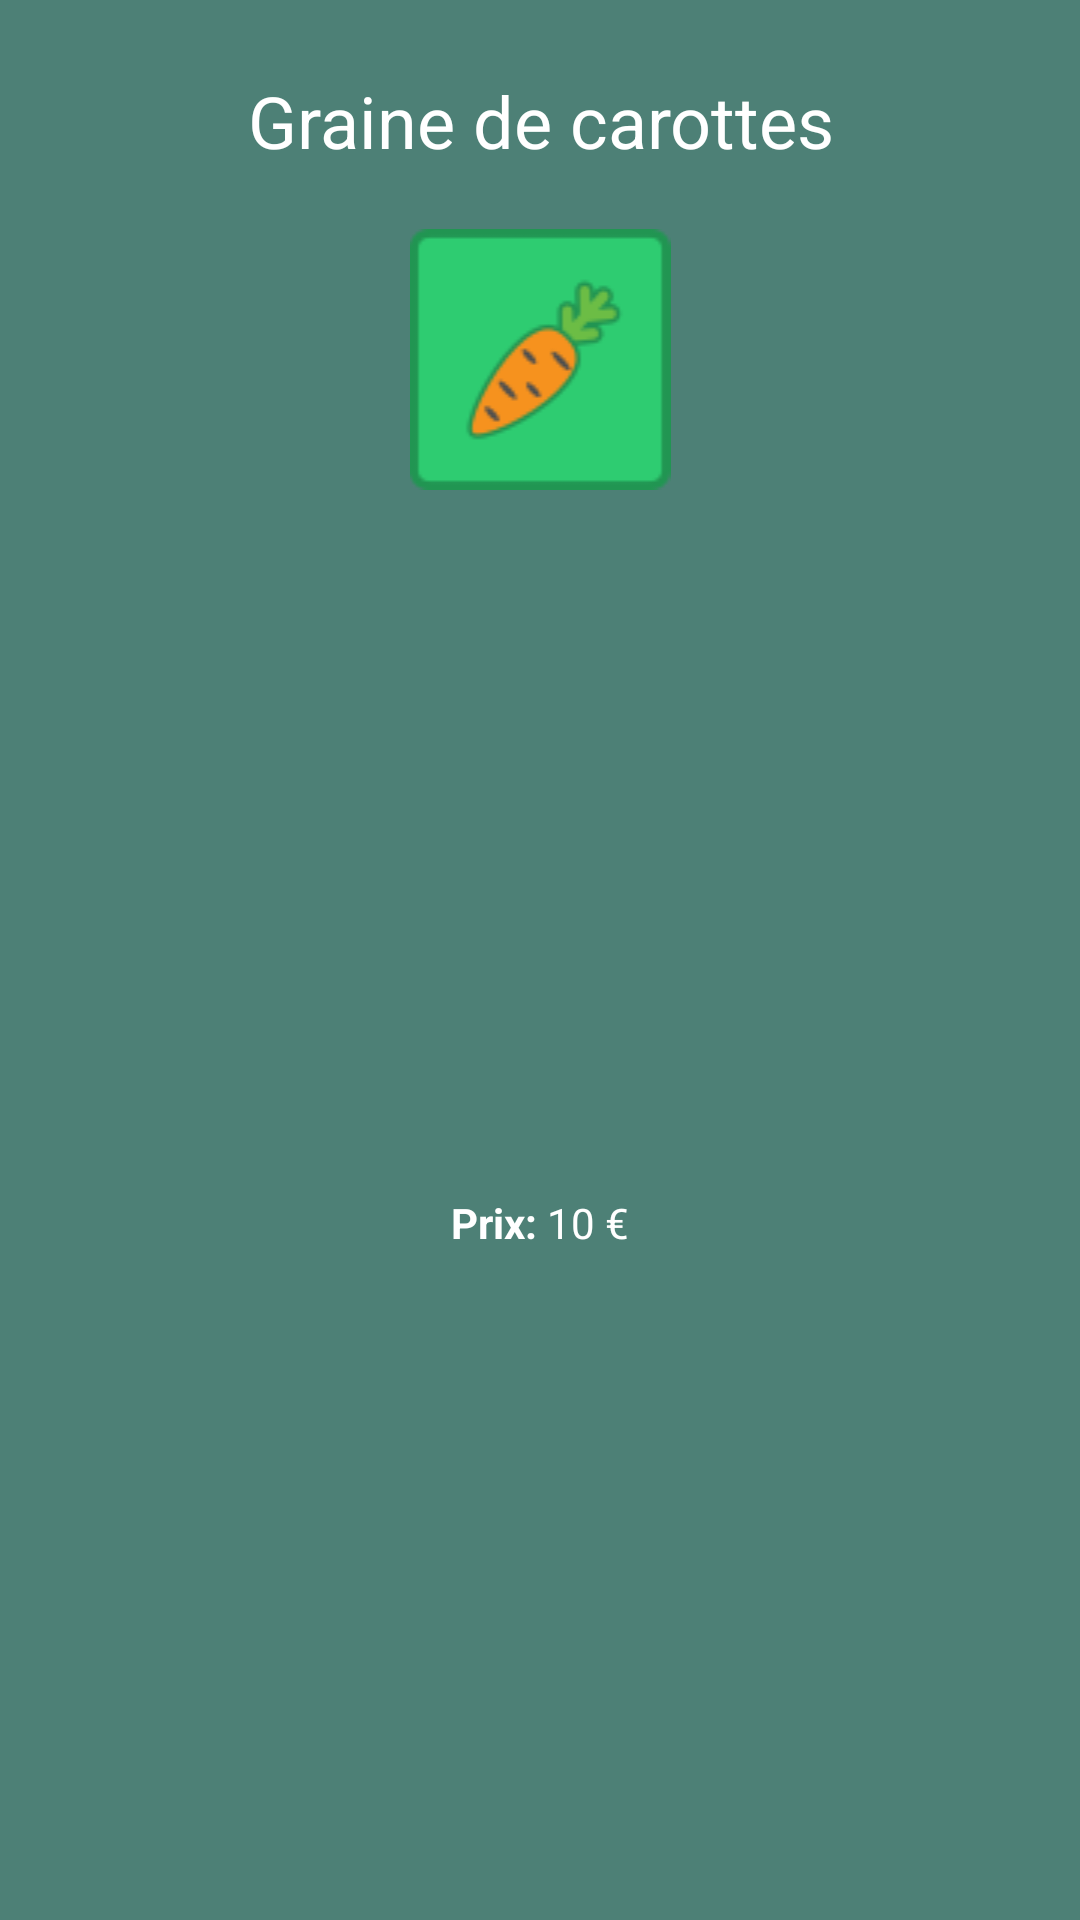

Screen size 1080x1920. Icon name, then its center in pixels as (x=x, y=y):
plot carrot ripe: (x=540, y=359)
